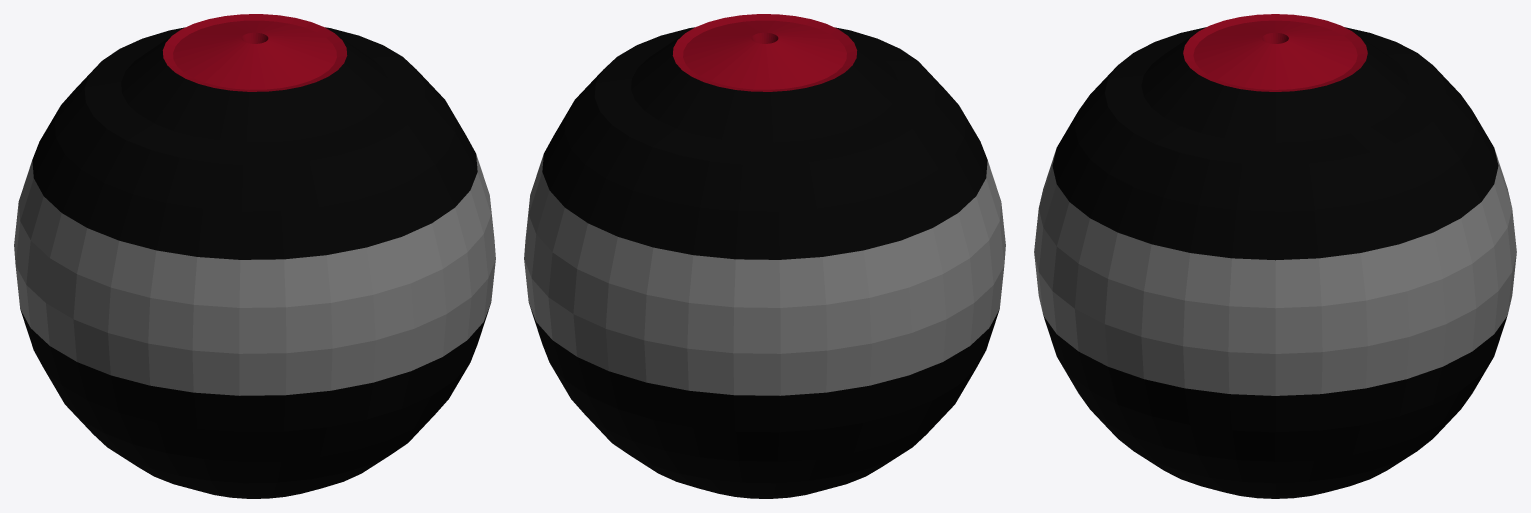
File: Bomb.fbx
The picture shows the model from 3 angles, left to right: view 1: azimuth 30°, elevation 25°; view 2: azimuth 150°, elevation 25°; view 3: azimuth 270°, elevation 25°; orthographic projection.
Parts seen in each view (by area): view 1: Sphere; view 2: Sphere; view 3: Sphere.
Boxes of the visible parts, left/top/right/bottom form: Sphere: left=14, top=14, right=495, bottom=498; Sphere: left=524, top=14, right=1005, bottom=498; Sphere: left=1034, top=14, right=1516, bottom=498.
Bounding box in the file's own units: 189 × 188 × 189.
Materials: 1 (1 with a texture image).
